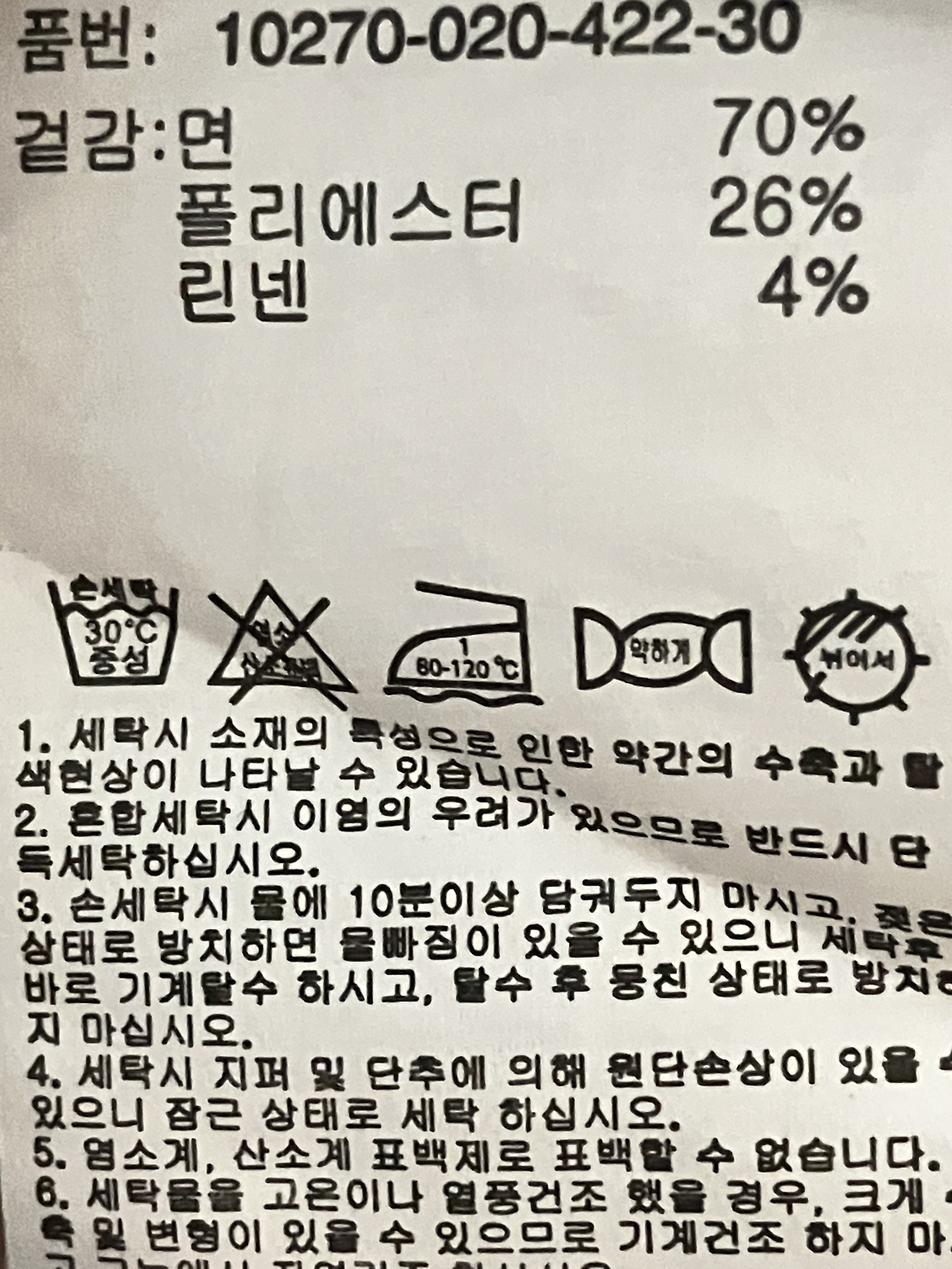KR_flat_dry_in_shade: (785, 579, 932, 726)
KR_gentle_wring: (560, 586, 764, 709)
KR_hand_wash_30_neutral: (46, 558, 184, 695)
KR_iron_low_temp_with_cloth: (373, 572, 544, 712)
KR_no_bleach: (210, 570, 360, 708)
